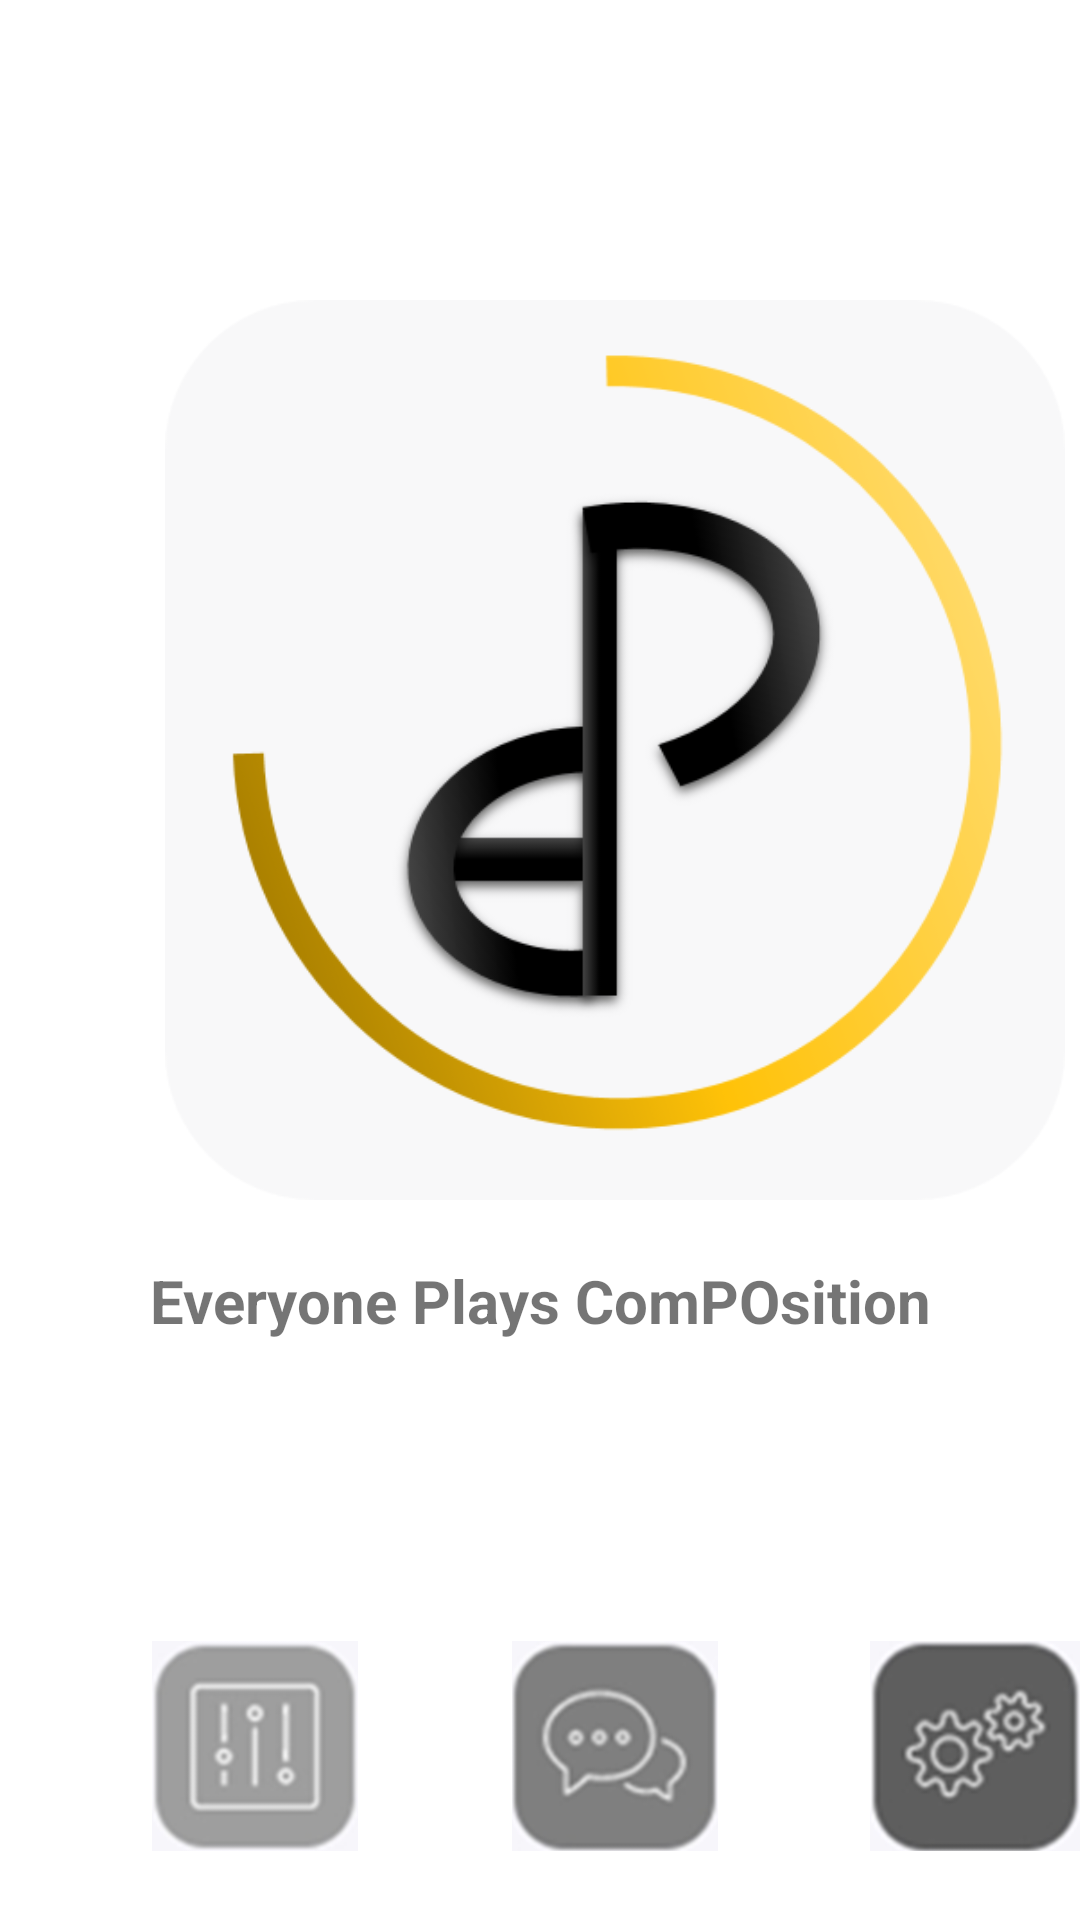

Icons on this 1080px x 1920px Android screen, each with its box as (x1, y1, x2, y2):
community: (512, 1643, 717, 1851)
setting: (872, 1642, 1079, 1851)
